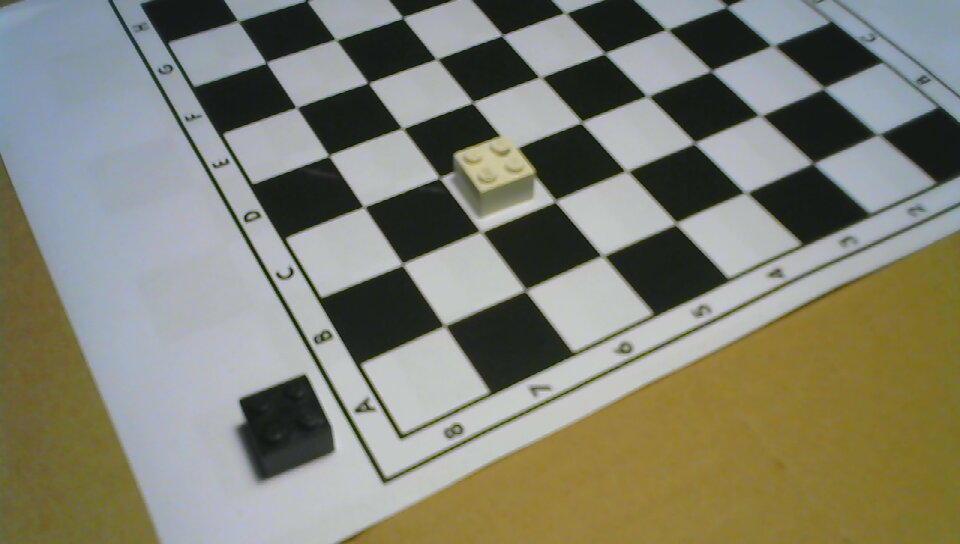bp: (240, 375, 334, 479)
wp: (450, 134, 534, 216)
